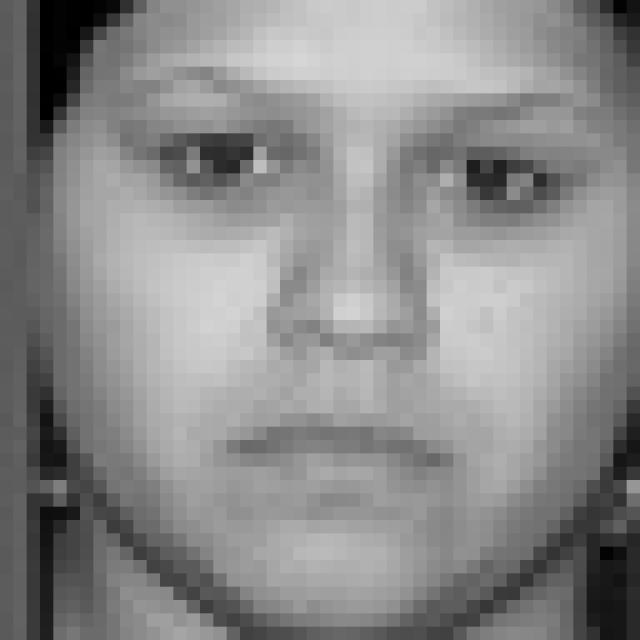neutral: (114, 57, 613, 516)
